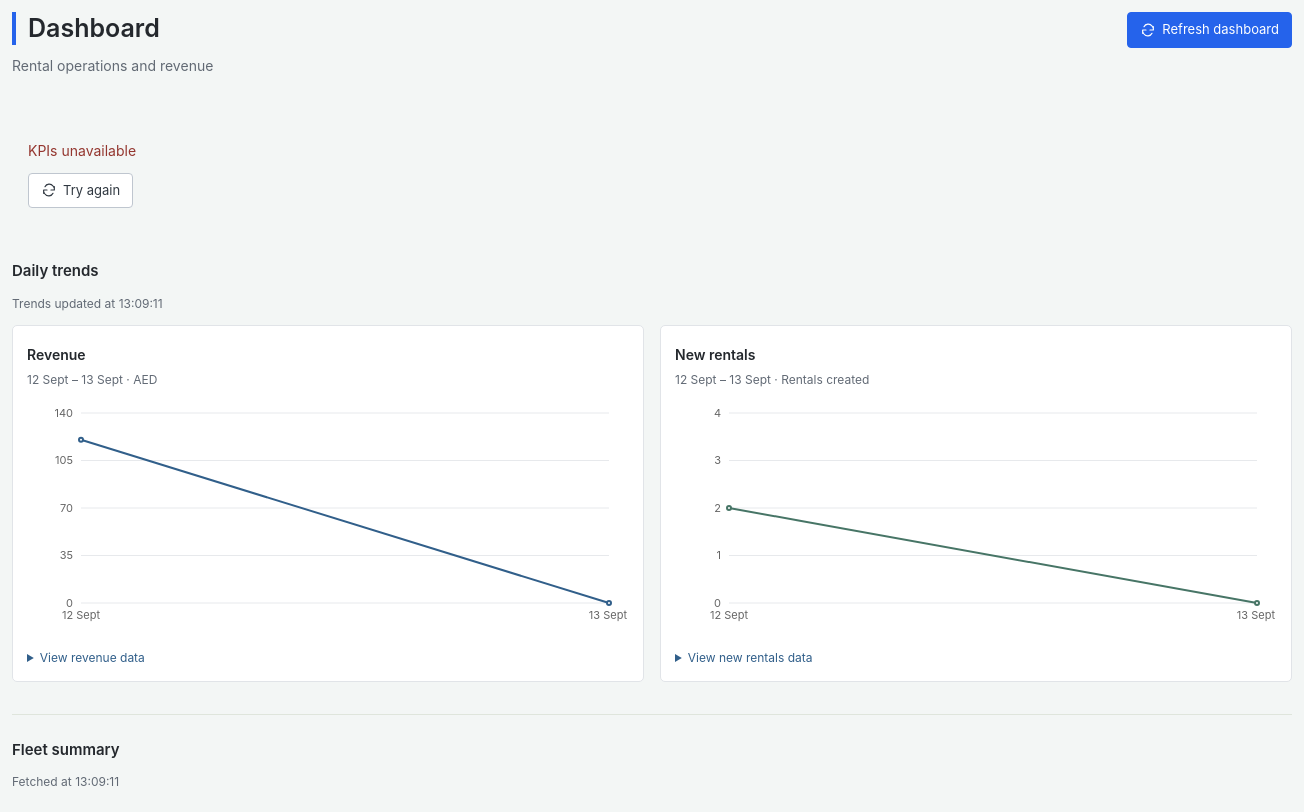
Test: live dashboard › keeps the trend section available if KPIs fail, and retries only KPIs
Expected: the message reads "KPIs unavailable", [28,142,136,158]
Expected: the heading "Revenue" is shown, [27,346,86,362]
Click the button "Try again": [81, 190] box [28,172,133,208]
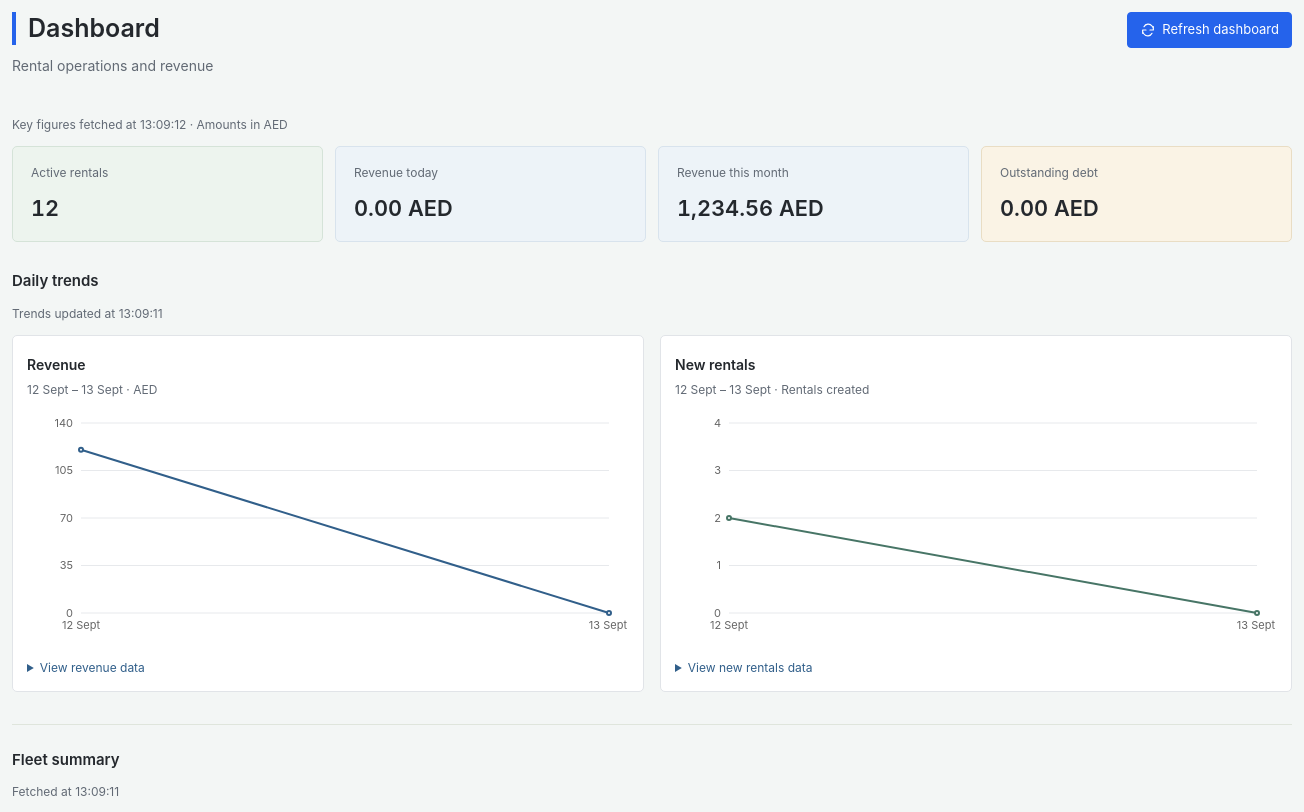
Expected: the text "1,234.56 AED" is shown, [677,194,824,220]
